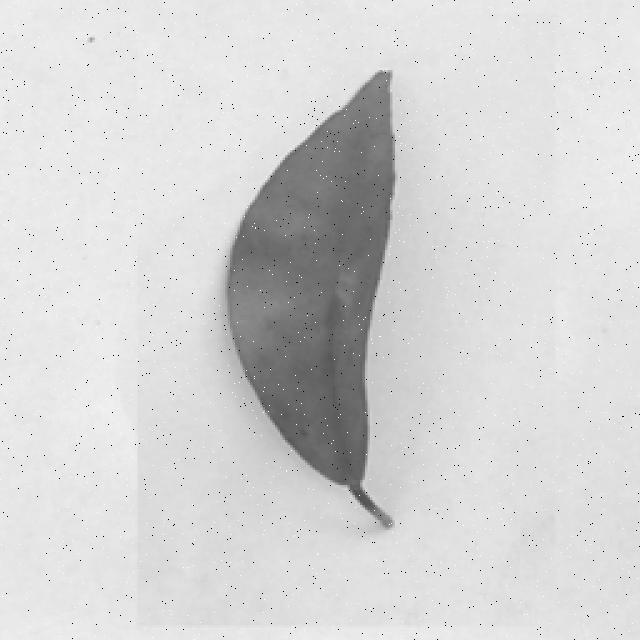greening: (186, 61, 454, 565)
